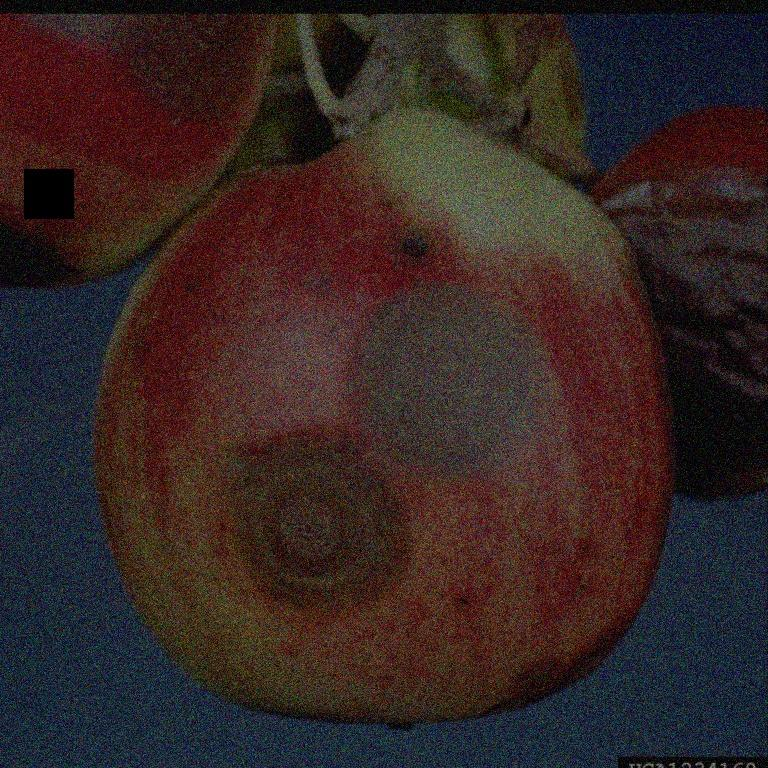rotten apple: (90, 119, 676, 730), (581, 89, 767, 508), (0, 14, 270, 286)
